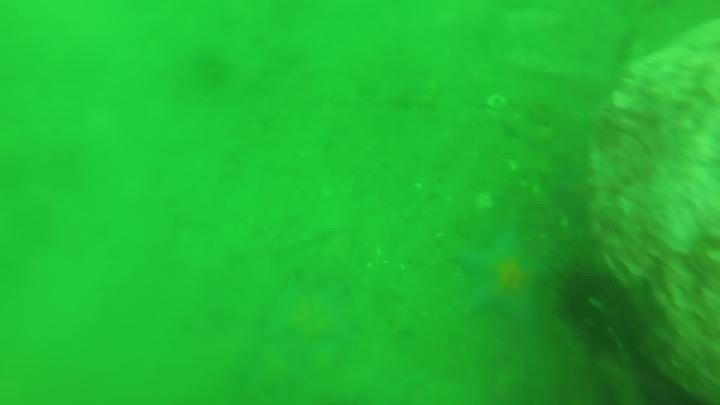echinus: (554, 268, 646, 360), (189, 49, 234, 93)
starfish: (450, 224, 551, 325), (262, 278, 355, 365)
